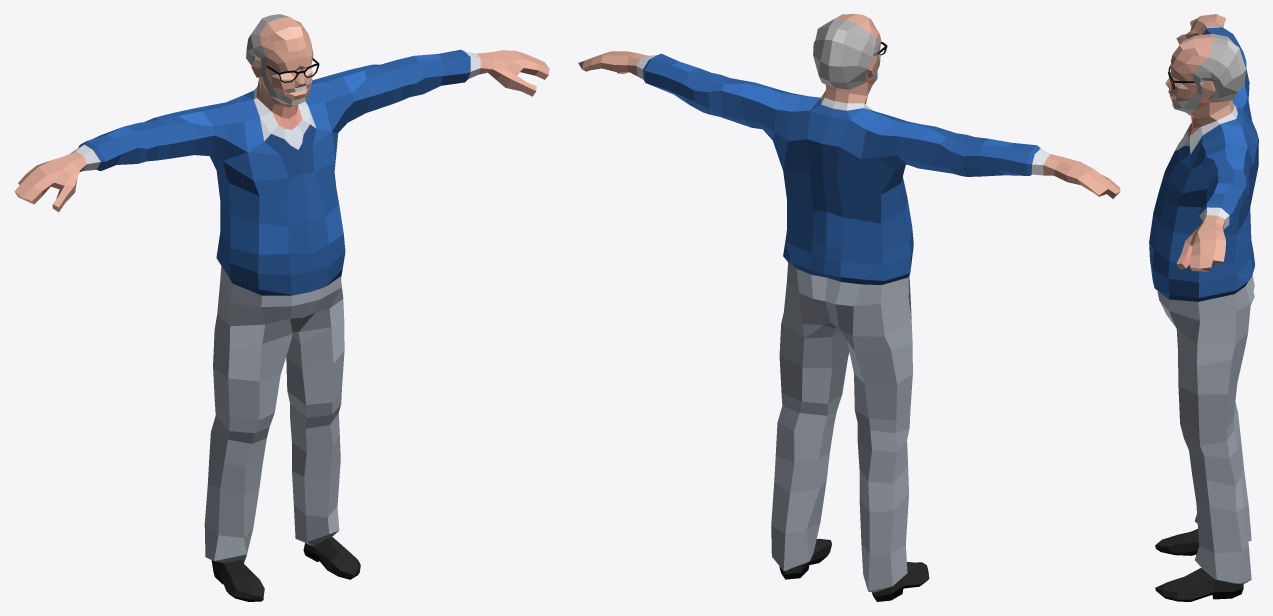
The model's file is office_Male_B-model.fbx.
3 renders of one model, left to right at view 1: azimuth 30°, elevation 25°; view 2: azimuth 150°, elevation 25°; view 3: azimuth 270°, elevation 25°, orthographic. The views are drawn at different scales.
Parts seen in each view (by area): view 1: office_Male_B; view 2: office_Male_B; view 3: office_Male_B.
Boxes of the visible parts, left/top/right/bottom form: office_Male_B: left=14, top=14, right=549, bottom=601; office_Male_B: left=578, top=14, right=1120, bottom=601; office_Male_B: left=1149, top=14, right=1258, bottom=601.
Bounding box in the file's own units: 168 × 168 × 31.09.
1 material, 1 textured.
